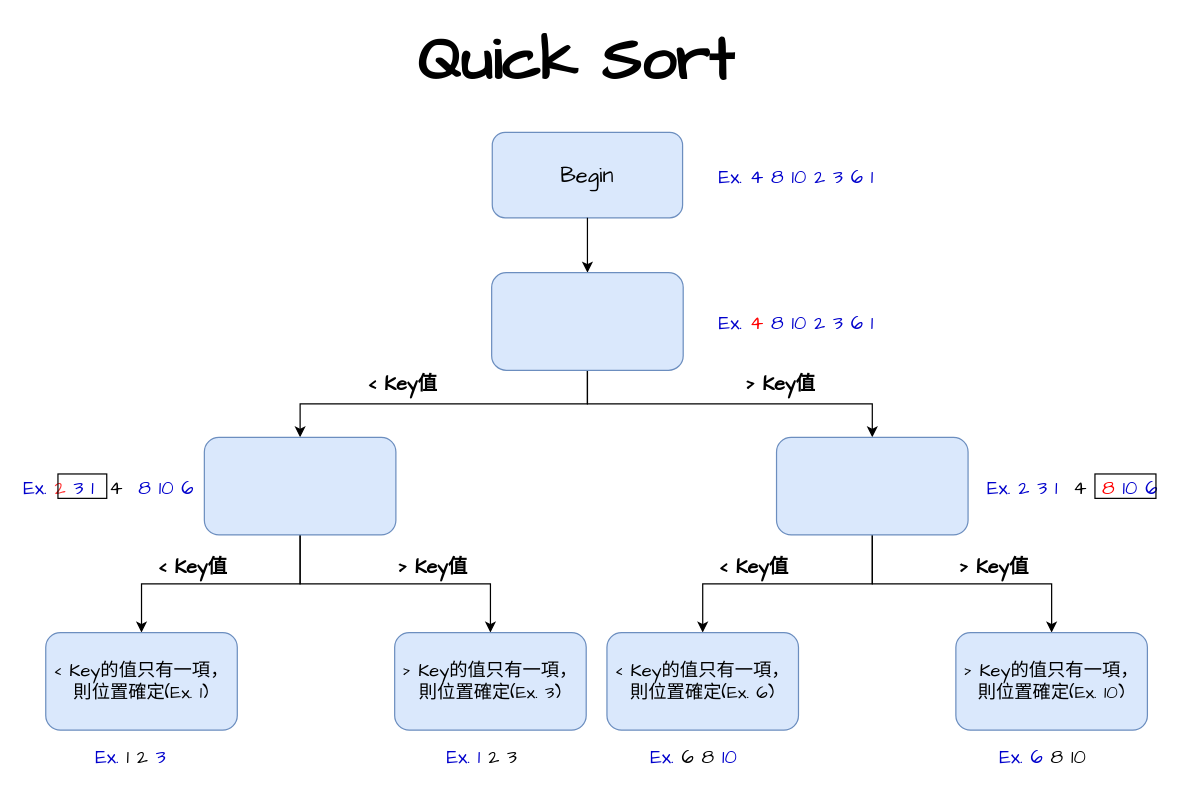
Some shapes in this 1188 by 789 pixel diagram are drawn without their labels. The shapes that lost their labels are listed below. From the top down, each one's centre as x and y in pixels, then its label:
At pixel 586 320: "選擇第一個元素作為Key並分成兩堆 (Ex. 4)".
At pixel 299 485: "從小於Key的值中再選擇第一個作為新的Key(Ex. 2)".
At pixel 871 485: "從大於Key的值中再選擇第一個作為新的Key(Ex. 8)".
